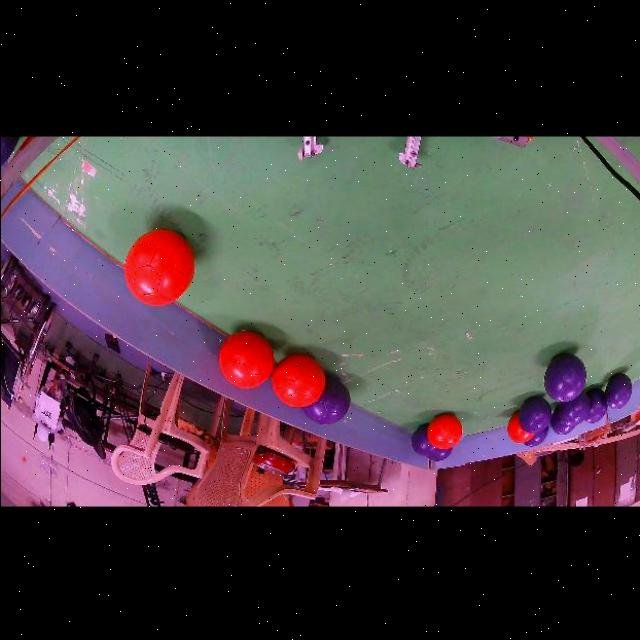P: (301, 377, 350, 424), (543, 353, 585, 402), (410, 424, 451, 461), (517, 397, 550, 433), (557, 391, 589, 427), (605, 373, 632, 410), (584, 388, 607, 423), (549, 406, 574, 434), (523, 427, 548, 446)
R: (123, 230, 193, 306), (219, 332, 274, 388), (271, 354, 324, 407), (427, 414, 462, 449), (507, 411, 532, 443)
